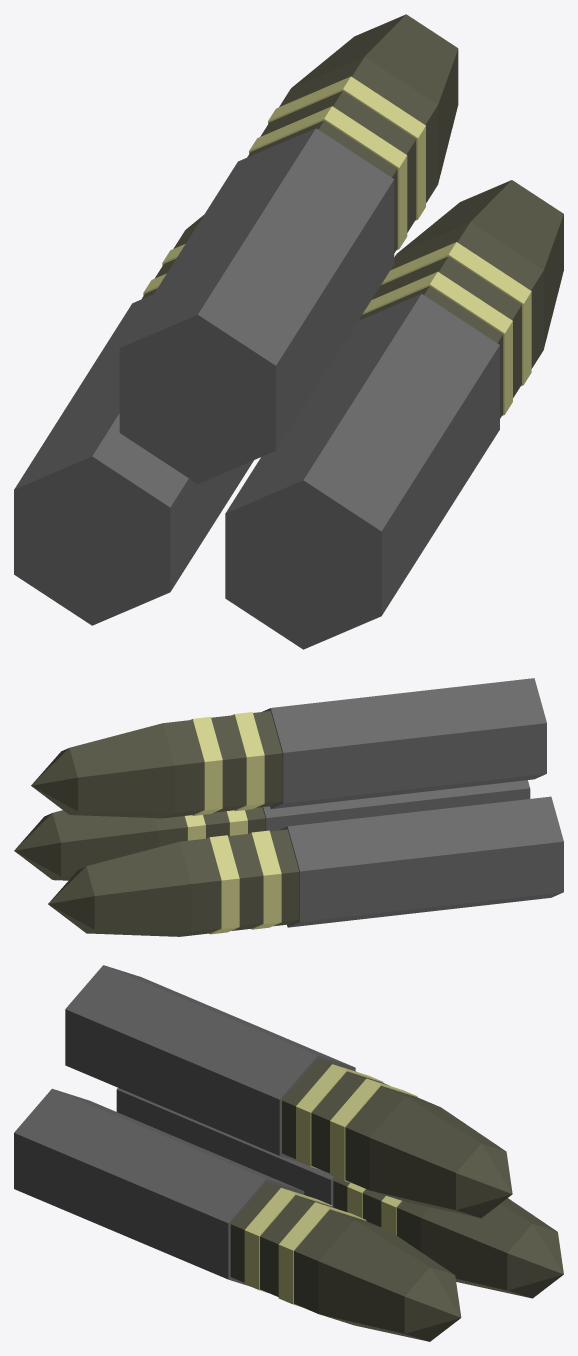
Rendered from ce_ammo2_rcl84_frag_b.obj.
3 views of the same model, one above another, from view 1: azimuth 30°, elevation 25°; view 2: azimuth 150°, elevation 25°; view 3: azimuth 270°, elevation 25° (orthographic). The views are drawn at different scales.
Visible parts, largest first — view 1: ce_ammo2_rcl84_frag_b_16, ce_ammo2_rcl84_frag_b_8, ce_ammo2_rcl84_frag_b_0, ce_ammo2_rcl84_frag_b_14, ce_ammo2_rcl84_frag_b_22, ce_ammo2_rcl84_frag_b_13, ce_ammo2_rcl84_frag_b_21, ce_ammo2_rcl84_frag_b_19, ce_ammo2_rcl84_frag_b_18, ce_ammo2_rcl84_frag_b_20, ce_ammo2_rcl84_frag_b_11, ce_ammo2_rcl84_frag_b_10 (+3 smaller); view 2: ce_ammo2_rcl84_frag_b_0, ce_ammo2_rcl84_frag_b_16, ce_ammo2_rcl84_frag_b_6, ce_ammo2_rcl84_frag_b_22, ce_ammo2_rcl84_frag_b_8, ce_ammo2_rcl84_frag_b_14, ce_ammo2_rcl84_frag_b_5, ce_ammo2_rcl84_frag_b_21, ce_ammo2_rcl84_frag_b_19, ce_ammo2_rcl84_frag_b_3, ce_ammo2_rcl84_frag_b_4, ce_ammo2_rcl84_frag_b_2 (+12 smaller); view 3: ce_ammo2_rcl84_frag_b_16, ce_ammo2_rcl84_frag_b_8, ce_ammo2_rcl84_frag_b_22, ce_ammo2_rcl84_frag_b_14, ce_ammo2_rcl84_frag_b_6, ce_ammo2_rcl84_frag_b_0, ce_ammo2_rcl84_frag_b_15, ce_ammo2_rcl84_frag_b_7, ce_ammo2_rcl84_frag_b_23, ce_ammo2_rcl84_frag_b_21, ce_ammo2_rcl84_frag_b_13, ce_ammo2_rcl84_frag_b_11 (+11 smaller).
Boxes of the visible parts, <box> form: ce_ammo2_rcl84_frag_b_16: <box>119,128,394,483</box>; ce_ammo2_rcl84_frag_b_8: <box>225,293,499,649</box>; ce_ammo2_rcl84_frag_b_0: <box>14,294,253,625</box>; ce_ammo2_rcl84_frag_b_14: <box>397,180,563,349</box>; ce_ammo2_rcl84_frag_b_22: <box>292,14,458,183</box>; ce_ammo2_rcl84_frag_b_13: <box>390,222,543,368</box>; ce_ammo2_rcl84_frag_b_21: <box>279,57,437,202</box>; ce_ammo2_rcl84_frag_b_19: <box>260,91,416,232</box>; ce_ammo2_rcl84_frag_b_18: <box>249,106,407,249</box>; ce_ammo2_rcl84_frag_b_20: <box>268,76,425,220</box>; ce_ammo2_rcl84_frag_b_11: <box>372,256,521,397</box>; ce_ammo2_rcl84_frag_b_10: <box>362,271,512,415</box>; ce_ammo2_rcl84_frag_b_0: <box>279,796,563,927</box>; ce_ammo2_rcl84_frag_b_16: <box>262,678,546,808</box>; ce_ammo2_rcl84_frag_b_6: <box>86,841,191,936</box>; ce_ammo2_rcl84_frag_b_22: <box>69,723,174,818</box>; ce_ammo2_rcl84_frag_b_8: <box>262,780,530,831</box>; ce_ammo2_rcl84_frag_b_14: <box>52,810,157,880</box>; ce_ammo2_rcl84_frag_b_5: <box>180,838,221,936</box>; ce_ammo2_rcl84_frag_b_21: <box>163,720,204,818</box>; ce_ammo2_rcl84_frag_b_19: <box>211,715,246,812</box>; ce_ammo2_rcl84_frag_b_3: <box>228,833,263,930</box>; ce_ammo2_rcl84_frag_b_4: <box>207,835,239,934</box>; ce_ammo2_rcl84_frag_b_2: <box>249,830,281,929</box>; ce_ammo2_rcl84_frag_b_16: <box>65,965,355,1162</box>; ce_ammo2_rcl84_frag_b_8: <box>14,1088,304,1286</box>; ce_ammo2_rcl84_frag_b_22: <box>369,1096,505,1217</box>; ce_ammo2_rcl84_frag_b_14: <box>318,1219,454,1341</box>; ce_ammo2_rcl84_frag_b_6: <box>421,1198,556,1297</box>; ce_ammo2_rcl84_frag_b_0: <box>116,1088,335,1206</box>; ce_ammo2_rcl84_frag_b_15: <box>404,1267,461,1341</box>; ce_ammo2_rcl84_frag_b_7: <box>507,1224,563,1298</box>; ce_ammo2_rcl84_frag_b_23: <box>456,1143,512,1218</box>; ce_ammo2_rcl84_frag_b_21: <box>345,1086,439,1190</box>; ce_ammo2_rcl84_frag_b_13: <box>294,1209,387,1313</box>; ce_ammo2_rcl84_frag_b_11: <box>260,1195,338,1296</box>.
Size of the model in its own units: 0.758 by 0.326 by 0.758.
